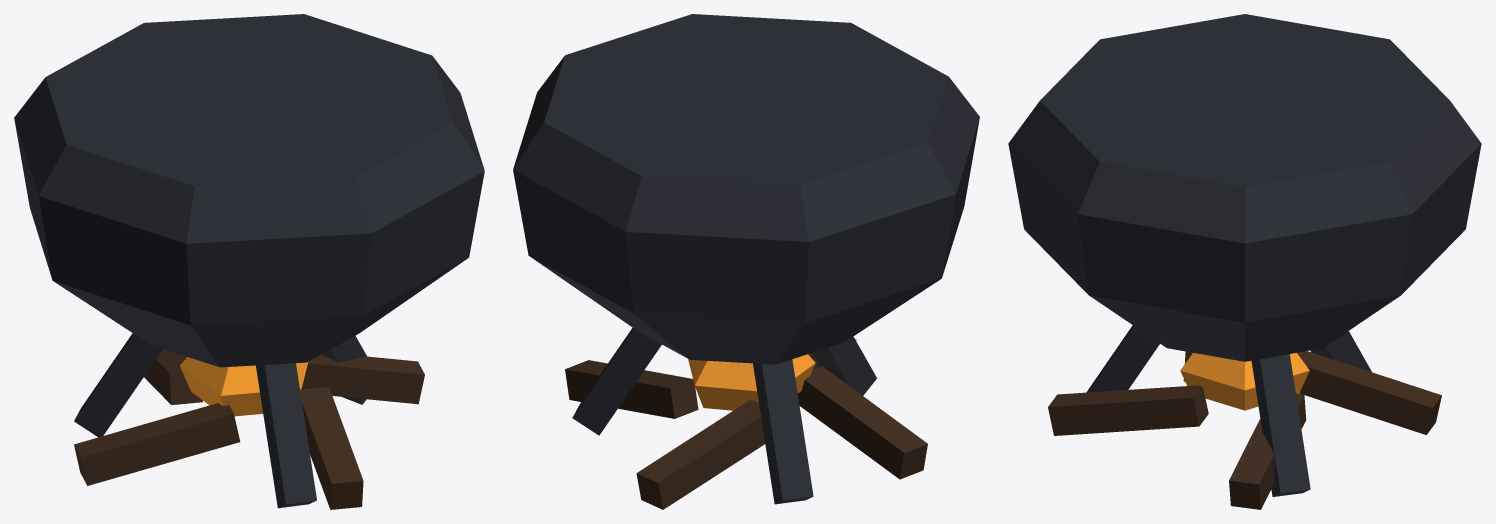
Rendered from cauldron_green.fbx.
3 renders of one model, left to right at view 1: azimuth 30°, elevation 25°; view 2: azimuth 150°, elevation 25°; view 3: azimuth 270°, elevation 25°, orthographic. The views are drawn at different scales.
Visible parts, largest first — view 1: cauldron_green; view 2: cauldron_green; view 3: cauldron_green.
Part boxes in pixels (<box>): cauldron_green: <box>14,14,484,509</box>; cauldron_green: <box>513,14,979,509</box>; cauldron_green: <box>1008,14,1481,509</box>.
Size of the model in its own units: 1.5 by 1.18 by 1.5.
